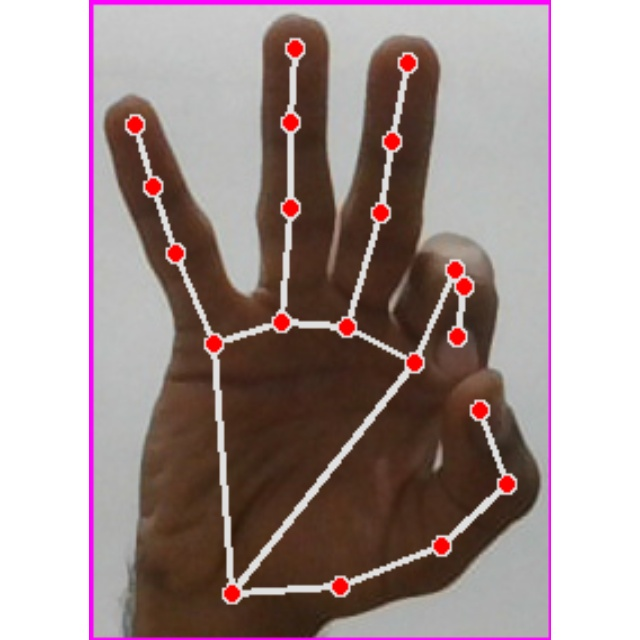F: (89, 0, 551, 640)
